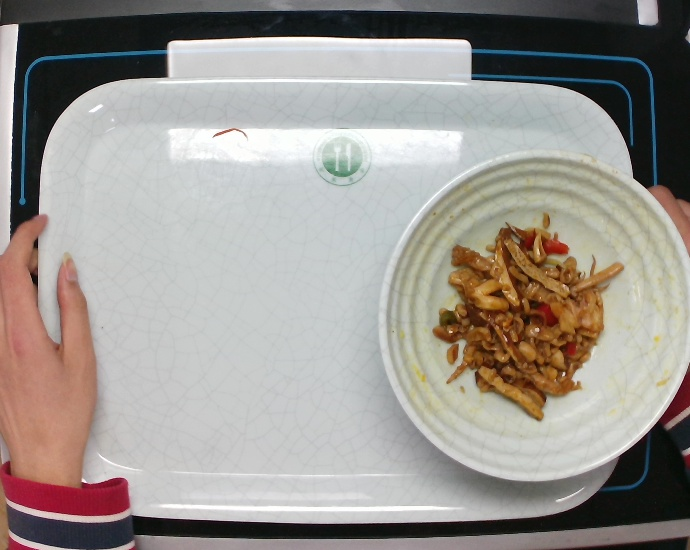JYsf-Da_Tang_Wan: (374, 143, 687, 484)
